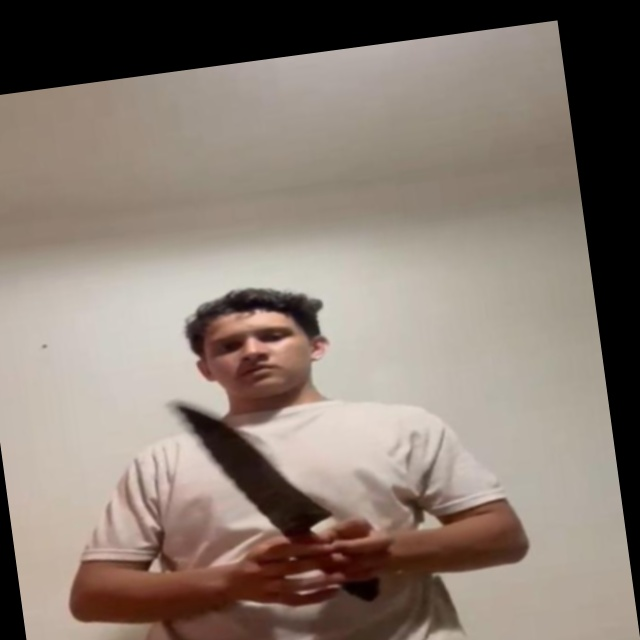Sharp-Object: (175, 387, 337, 544)
